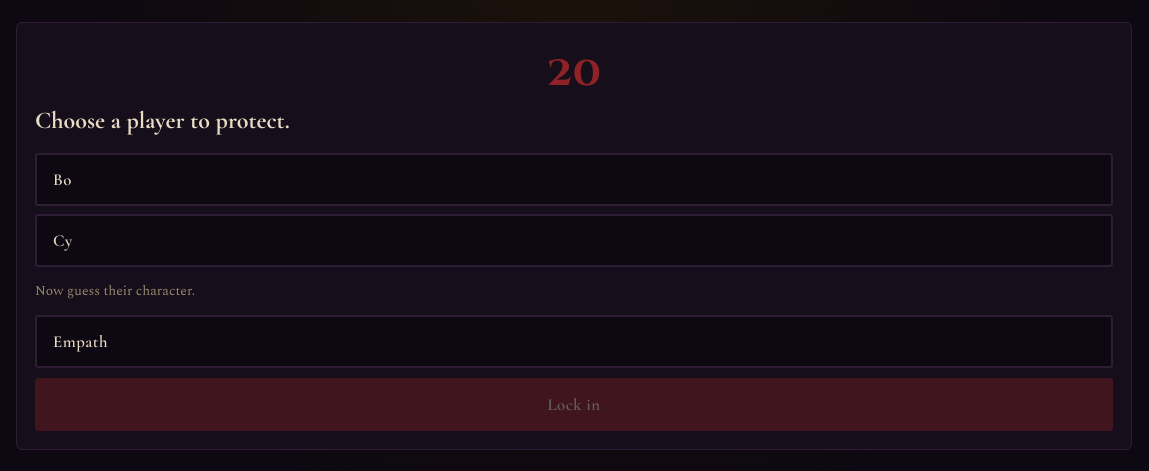
Test: NightPromptCard › a character-guess prompt requires both a target and a guess before it is ready, and names both
Step 1. Click the button "Bo" → x=62, y=180, box [35,153,1113,206]
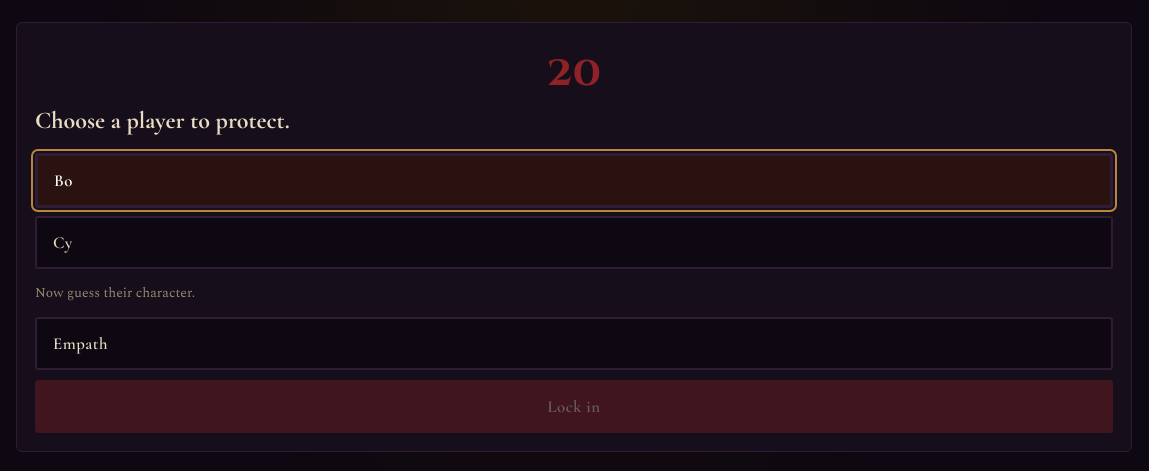
Expected: the button "Lock in" is disabled, [35,380,1113,433]
Step 2. Click the button "Empath" → x=80, y=344, box [35,317,1113,370]
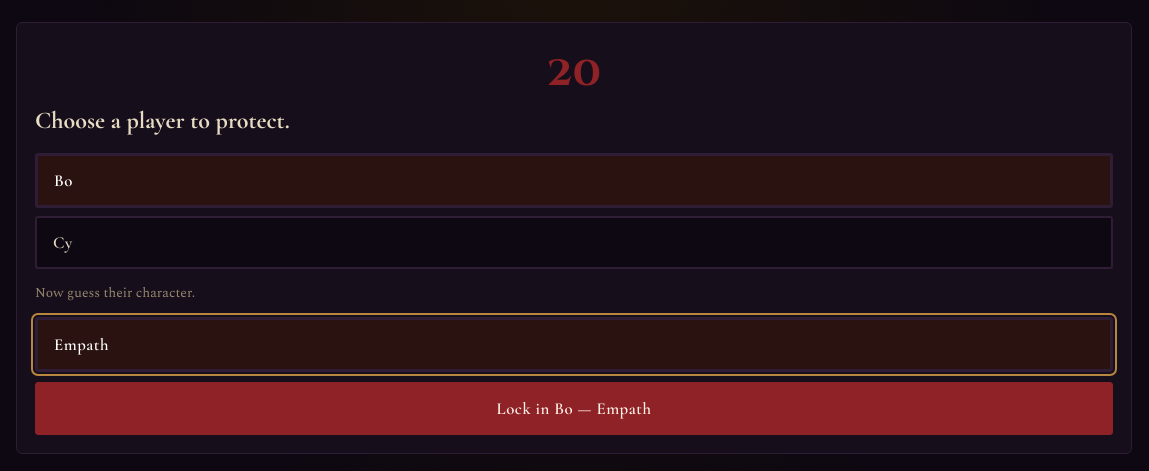
Now the button "Lock in Bo — Empath" is enabled, box [35,382,1113,435]
